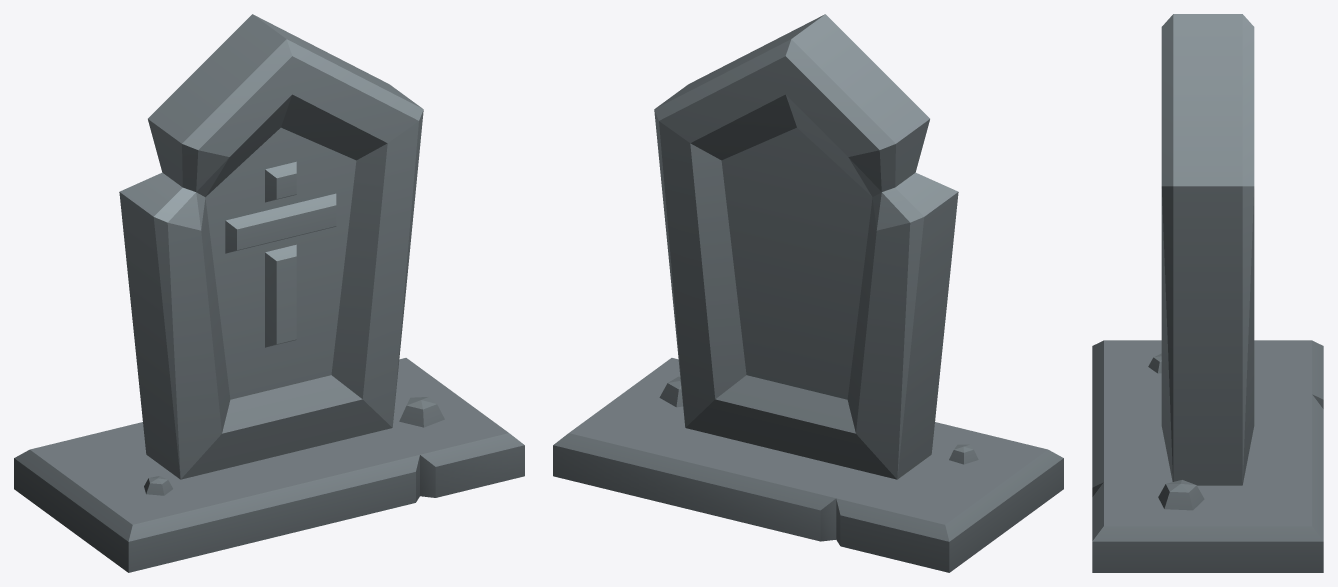
The model's file is grave_B.glb.
The picture shows the model from 3 angles, left to right: view 1: azimuth 30°, elevation 25°; view 2: azimuth 150°, elevation 25°; view 3: azimuth 270°, elevation 25°; orthographic projection.
Parts seen in each view (by area): view 1: grave_B; view 2: grave_B; view 3: grave_B.
Boxes of the visible parts, x1,y1,x2,y2 form: grave_B: [14, 14, 524, 572]; grave_B: [553, 14, 1063, 572]; grave_B: [1092, 14, 1323, 572].
Bounding box in the file's own units: 2 × 2.2 × 1.
1 material, 1 textured.
